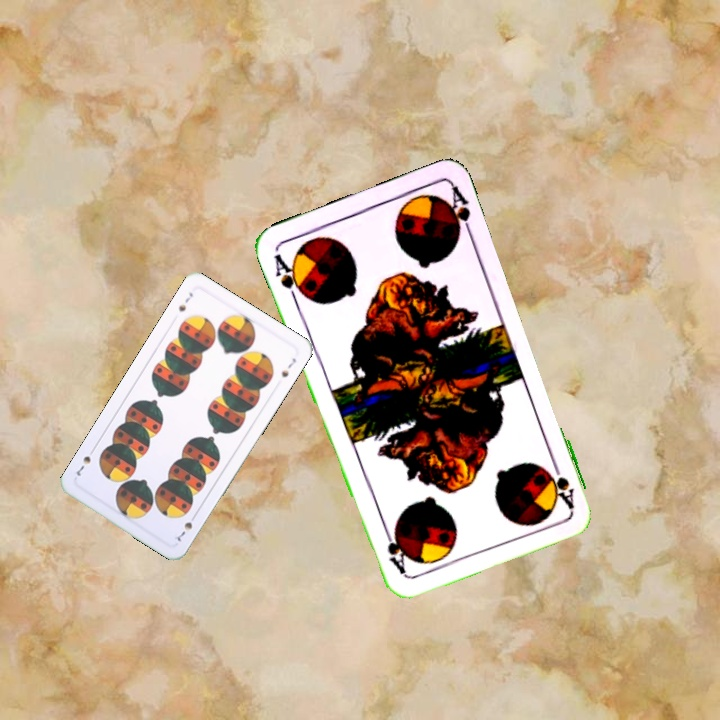S7: (173, 509, 199, 544), (174, 288, 196, 314)
SA: (269, 249, 309, 305), (545, 454, 577, 511)
